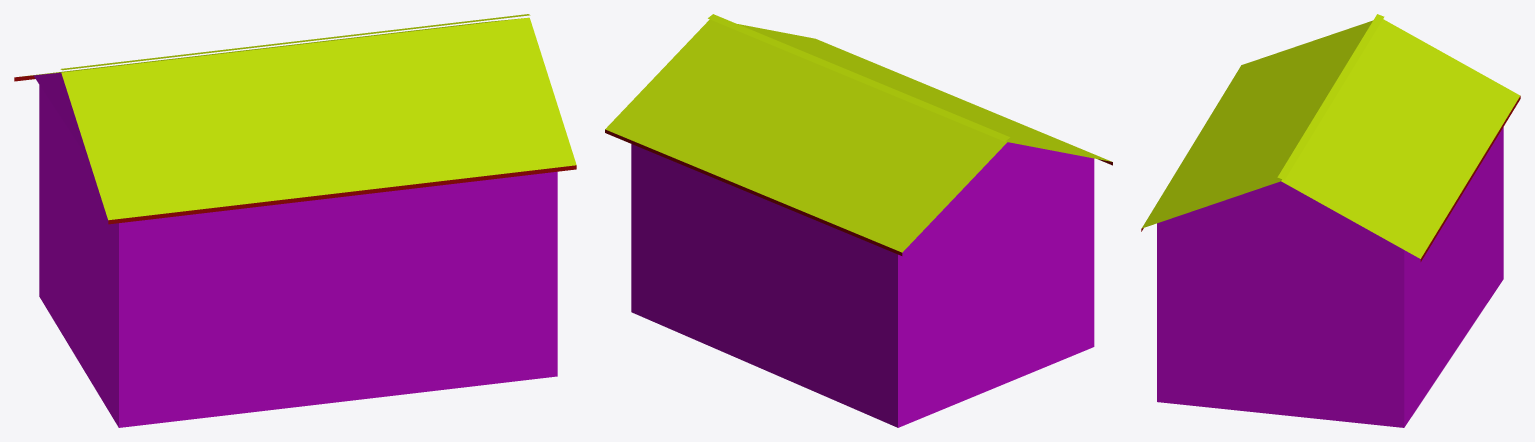
Rendered from sdt_76.glb.
The picture shows the model from 3 angles, left to right: view 1: azimuth 30°, elevation 25°; view 2: azimuth 150°, elevation 25°; view 3: azimuth 270°, elevation 25°; orthographic projection. The views are drawn at different scales.
Visible parts, largest first — view 1: sdt_76; view 2: sdt_76; view 3: sdt_76.
Part boxes in pixels (x1,y1,x2,y2): sdt_76: [14, 14, 576, 427]; sdt_76: [605, 14, 1112, 427]; sdt_76: [1141, 14, 1520, 427].
Bounding box in the file's own units: 14.56 × 8.51 × 12.02.
